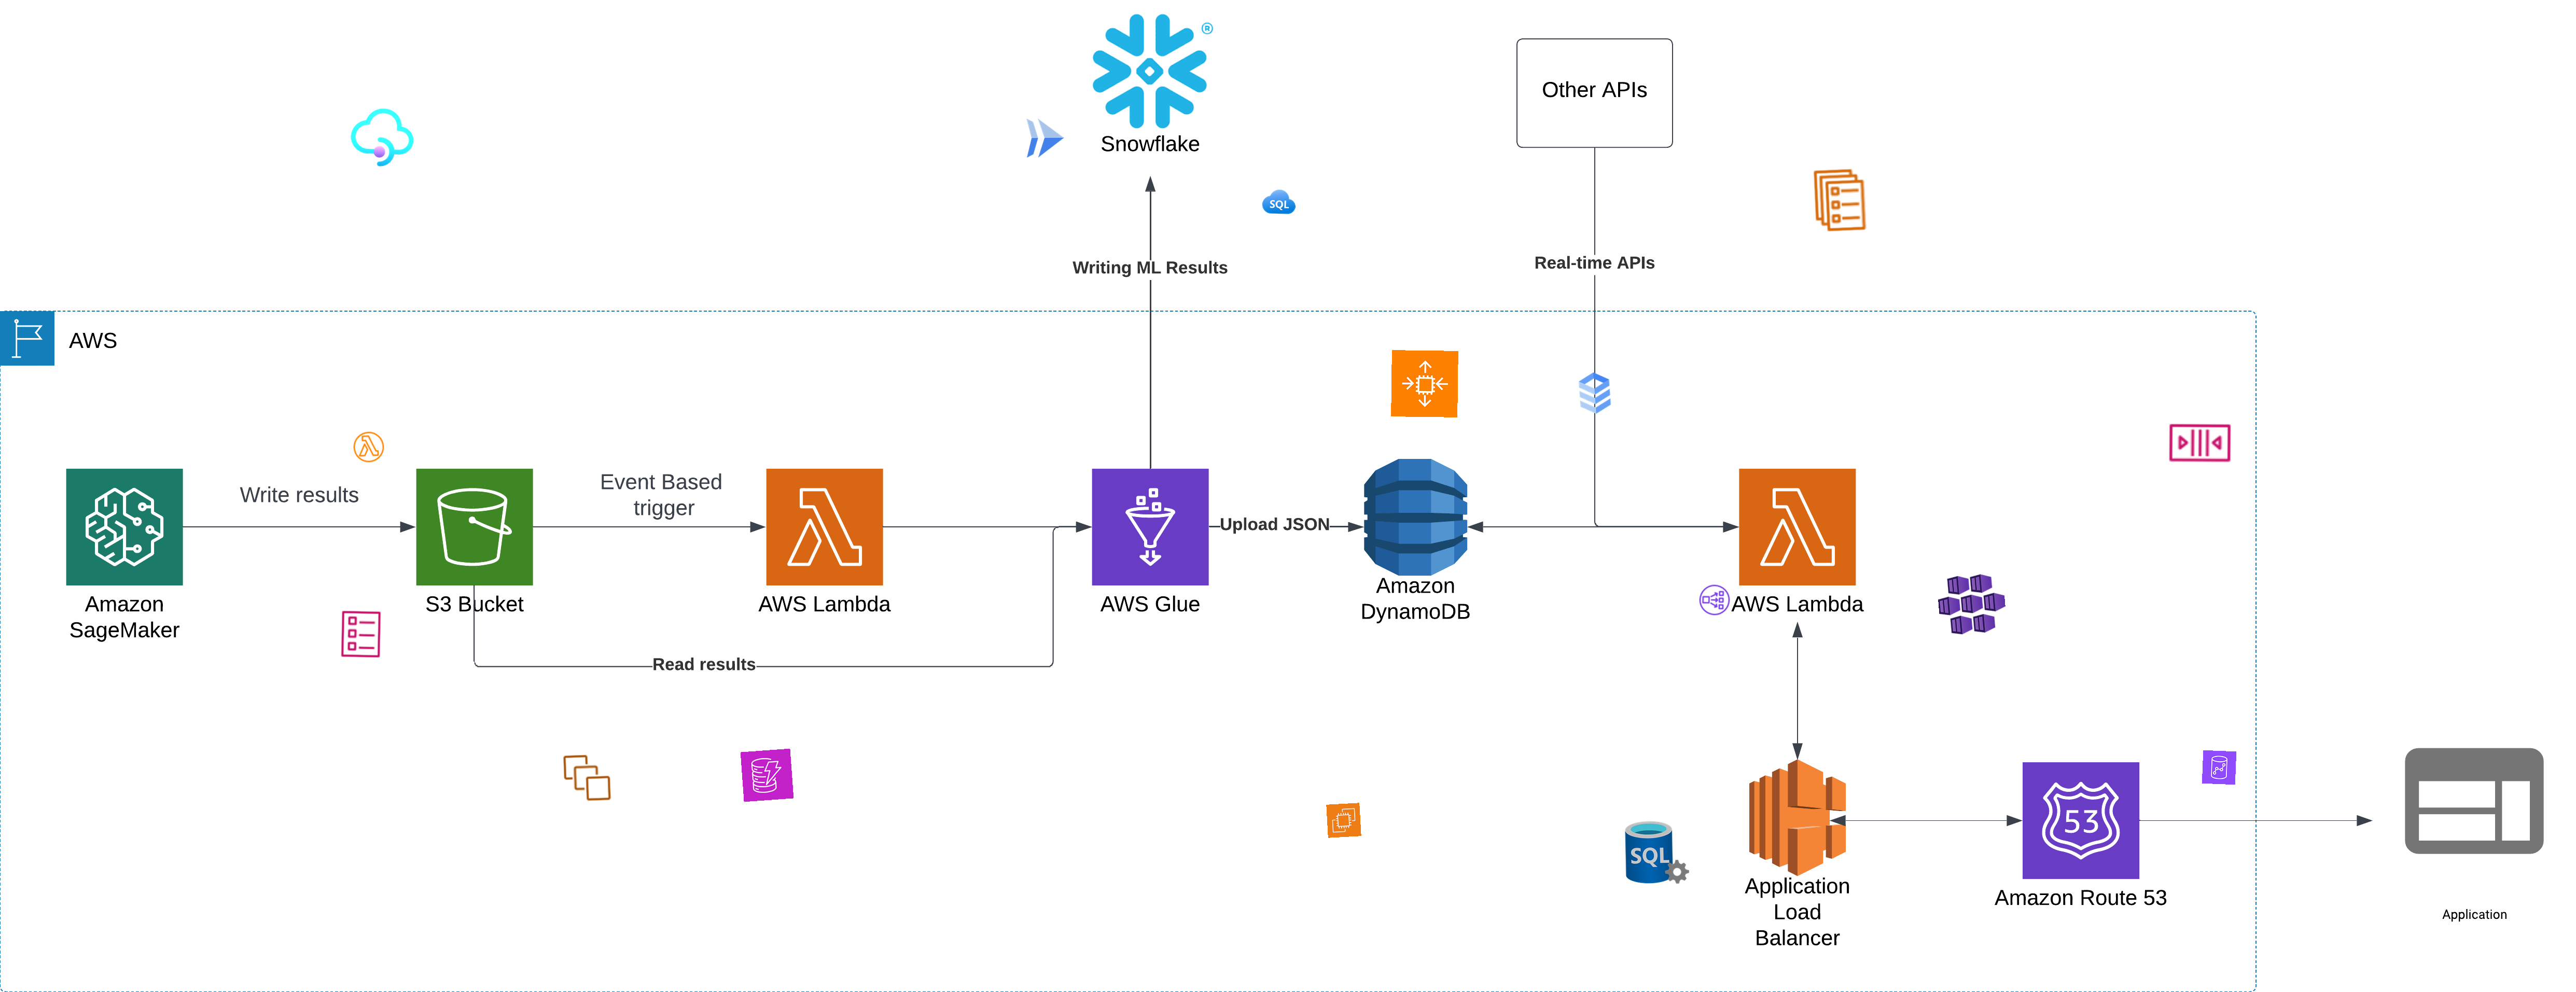aws_amazon_dynamodb: (739, 749, 793, 801)
aws_amazon_ec2: (1326, 803, 1362, 838)
aws_amazon_ec2_auto_scaling: (1391, 350, 1459, 417)
aws_amazon_redshift: (2201, 751, 2238, 785)
aws_cloudformation_template: (335, 609, 386, 660)
aws_ec2_instances: (562, 752, 613, 803)
aws_elastic_container_service_service: (1805, 166, 1874, 235)
aws_elastic_load_balancing_network_load_balancer: (1697, 583, 1732, 618)
aws_lambda_lambda_function: (352, 429, 386, 465)
aws_simple_queue_service_queue: (2167, 409, 2234, 476)
azure_api_management_services: (348, 103, 417, 172)
azure_kubernetes_services: (1935, 567, 2008, 641)
azure_sql: (1262, 186, 1296, 220)
azure_sql_server: (1623, 818, 1690, 887)
gcp_cloud_run: (1019, 113, 1069, 163)
gcp_cloud_sql: (1567, 366, 1622, 420)
